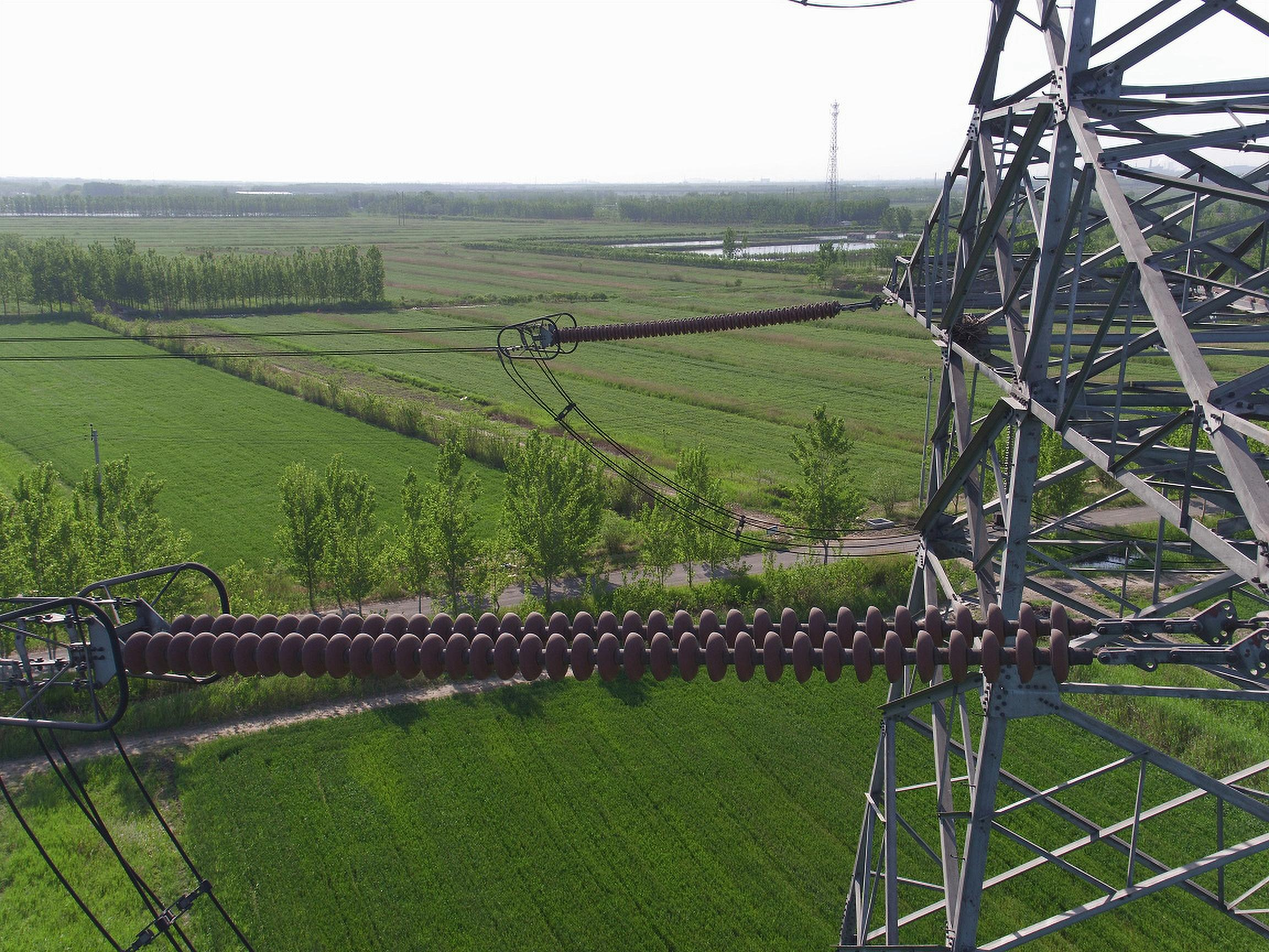insulator: (112, 598, 1085, 686), (547, 296, 843, 349)
